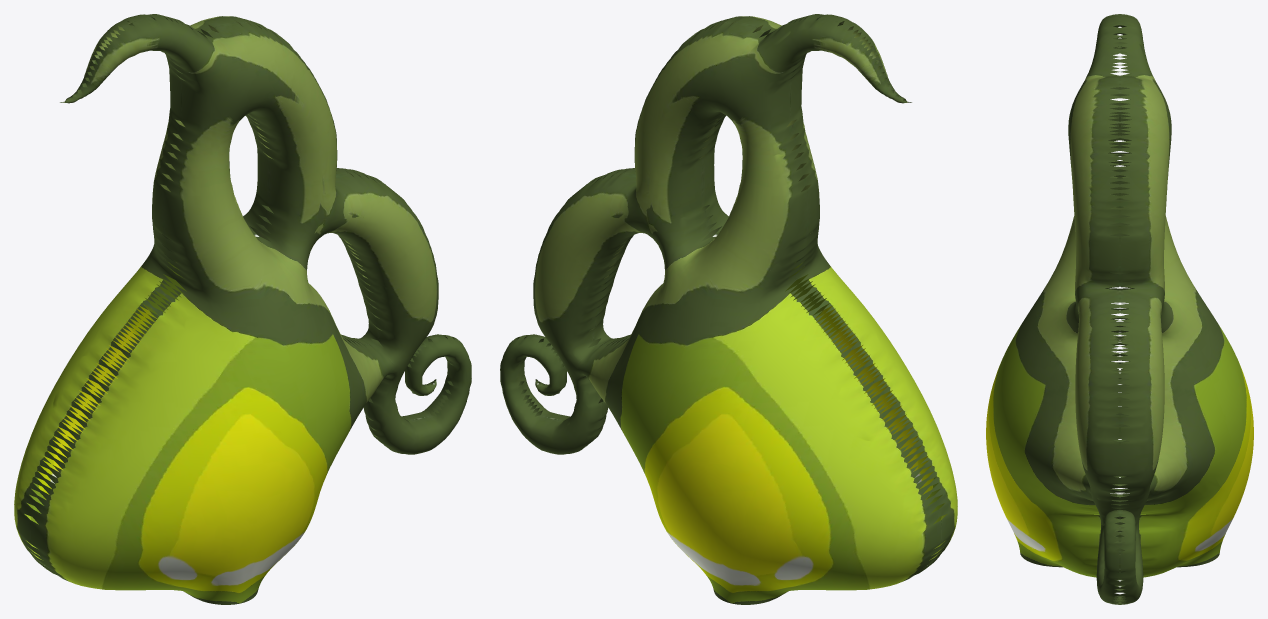
File: lantern_vine.glb
The picture shows the model from 3 angles, left to right: view 1: azimuth 30°, elevation 25°; view 2: azimuth 150°, elevation 25°; view 3: azimuth 270°, elevation 25°; orthographic projection. The views are drawn at different scales.
Parts seen in each view (by area): view 1: lantern_vine; view 2: lantern_vine; view 3: lantern_vine.
Part boxes in pixels (x1,y1,x2,y2): lantern_vine: (14, 14, 471, 604); lantern_vine: (500, 14, 957, 604); lantern_vine: (986, 14, 1253, 604).
Size of the model in its own units: 0.9866 by 1.2 by 0.5674.
1 material, 1 textured.
